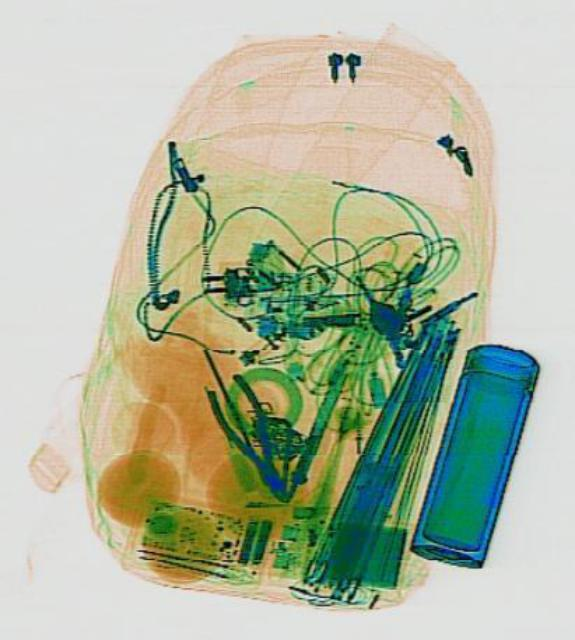Pliers: (199, 368, 304, 510)
